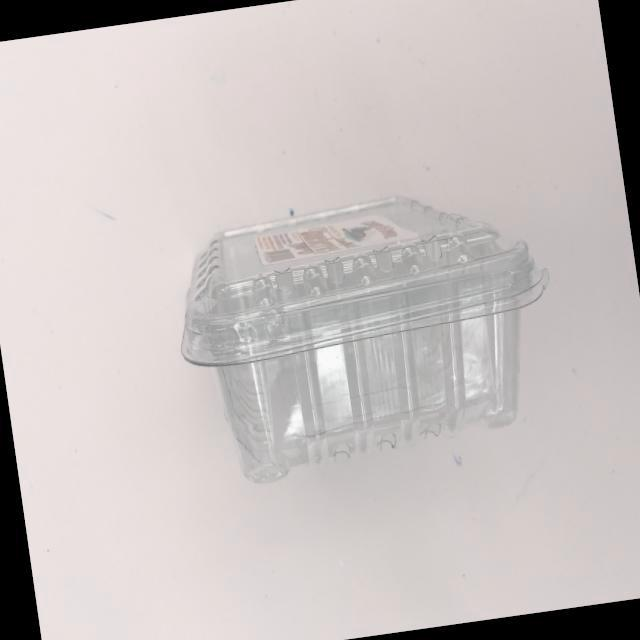plastic: (146, 162, 578, 525)
